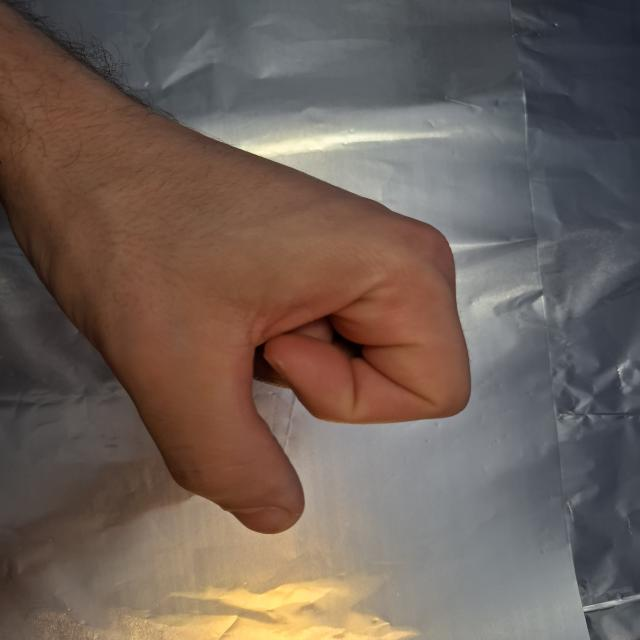glove_off: (20, 134, 473, 536)
